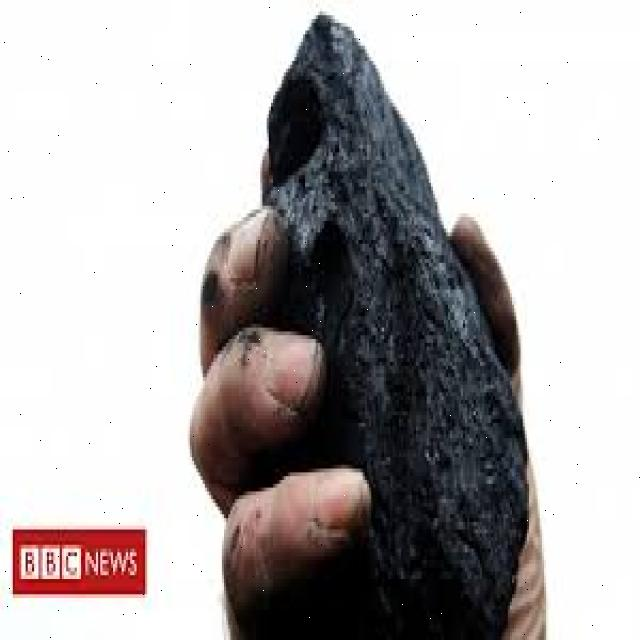Sedimentary: (264, 4, 534, 632)
